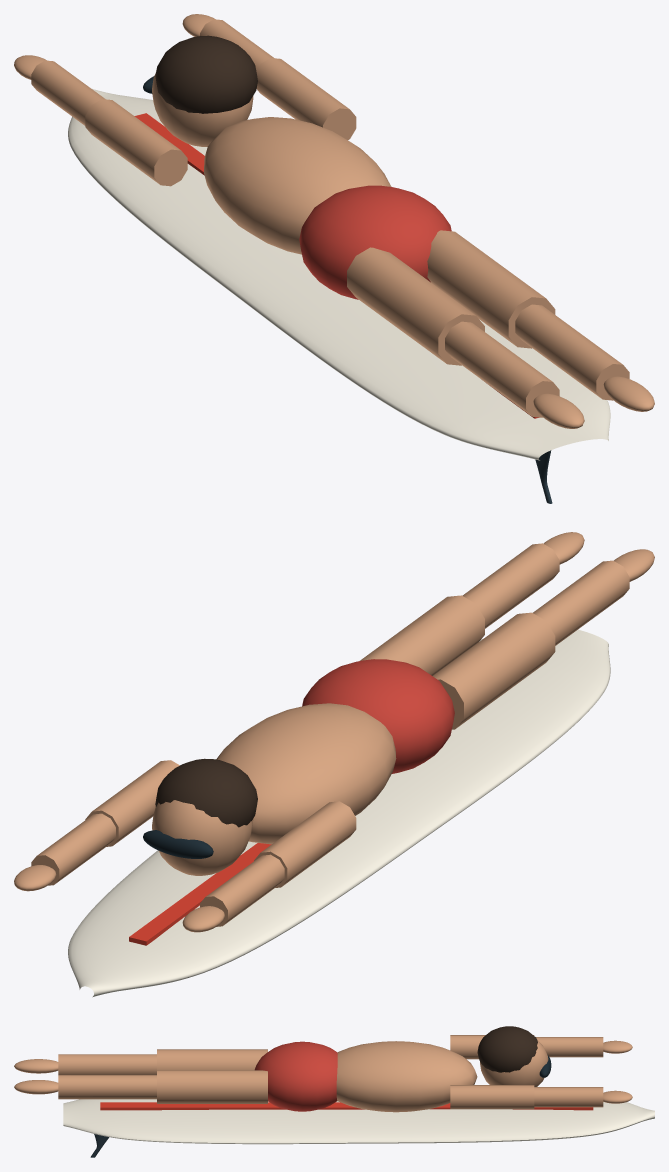
Rendered from surfer.glb.
3 views of the same model, one above another, from view 1: azimuth 30°, elevation 25°; view 2: azimuth 150°, elevation 25°; view 3: azimuth 270°, elevation 25° (orthographic). The views are drawn at different scales.
Visible parts, largest first — view 1: SurfboardAssembly, ThighAssembly (×2), TorsoAssembly, UpperArmAssembly (×2), Trunks, Hair, Foot (×2), BoardStripe; view 2: SurfboardAssembly, TorsoAssembly, ThighAssembly (×2), UpperArmAssembly (×2), Trunks, Hair, BoardStripe, Hand (×2), Foot (×2), Goggles; view 3: SurfboardAssembly, ThighAssembly (×2), TorsoAssembly, UpperArmAssembly (×2), Trunks, Hair, BoardStripe, Foot (×2), Hand (×2).
Boxes of the visible parts, x1,y1,x2,y2 form: SurfboardAssembly: (68, 89, 610, 503); ThighAssembly (×2): (347, 230, 629, 417); TorsoAssembly: (152, 73, 391, 254); UpperArmAssembly (×2): (31, 19, 356, 186); Trunks: (299, 185, 451, 299); Hair: (155, 35, 257, 113); Foot (×2): (533, 376, 654, 428); BoardStripe: (134, 113, 539, 418); SurfboardAssembly: (68, 629, 610, 997); TorsoAssembly: (152, 703, 396, 875); ThighAssembly (×2): (360, 543, 629, 729); UpperArmAssembly (×2): (31, 760, 356, 926); Trunks: (302, 659, 454, 773); Hair: (155, 758, 257, 827); BoardStripe: (129, 843, 271, 945); Hand (×2): (14, 865, 224, 932); Foot (×2): (543, 532, 654, 581); Goggles: (143, 830, 213, 858); SurfboardAssembly: (63, 1099, 654, 1157); ThighAssembly (×2): (58, 1049, 267, 1103); TorsoAssembly: (336, 1040, 548, 1112); UpperArmAssembly (×2): (450, 1035, 603, 1109); Trunks: (254, 1041, 337, 1111); Hair: (477, 1026, 537, 1072); BoardStripe: (100, 1102, 593, 1110); Foot (×2): (14, 1059, 58, 1094); Hand (×2): (603, 1040, 632, 1103).
Size of the model in its own units: 0.5751 by 0.57 by 2.6.
